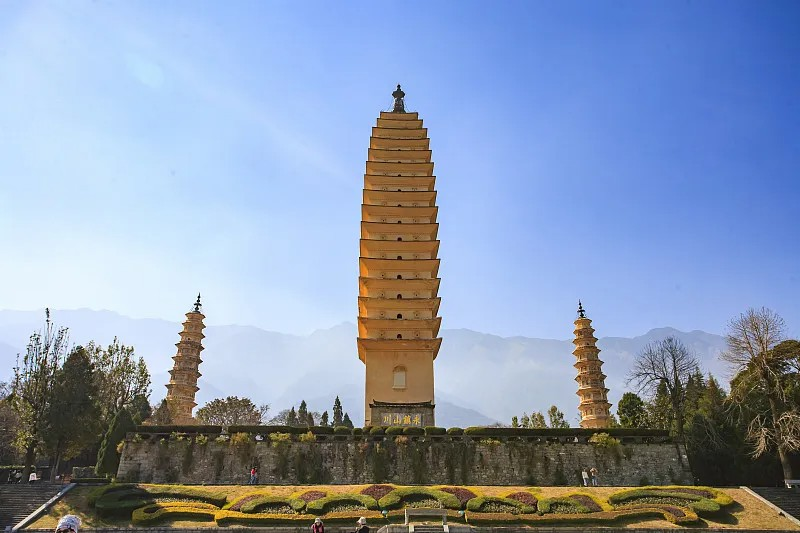ThreePagoda: (357, 83, 442, 427)
